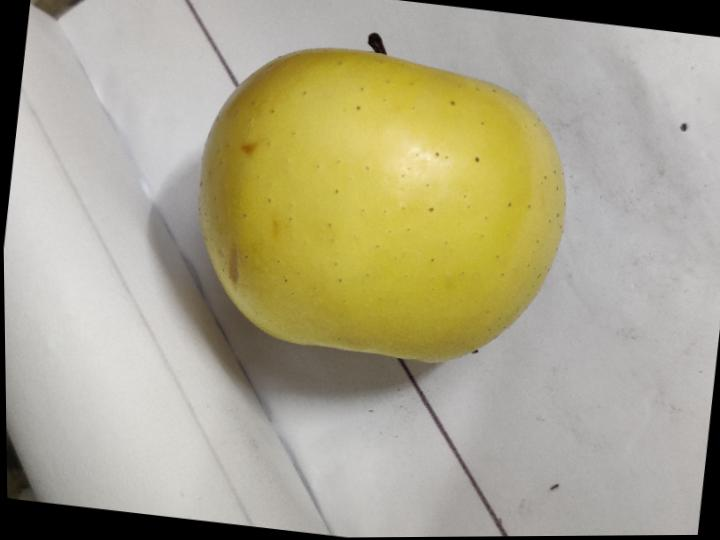apple: (200, 33, 565, 361)
